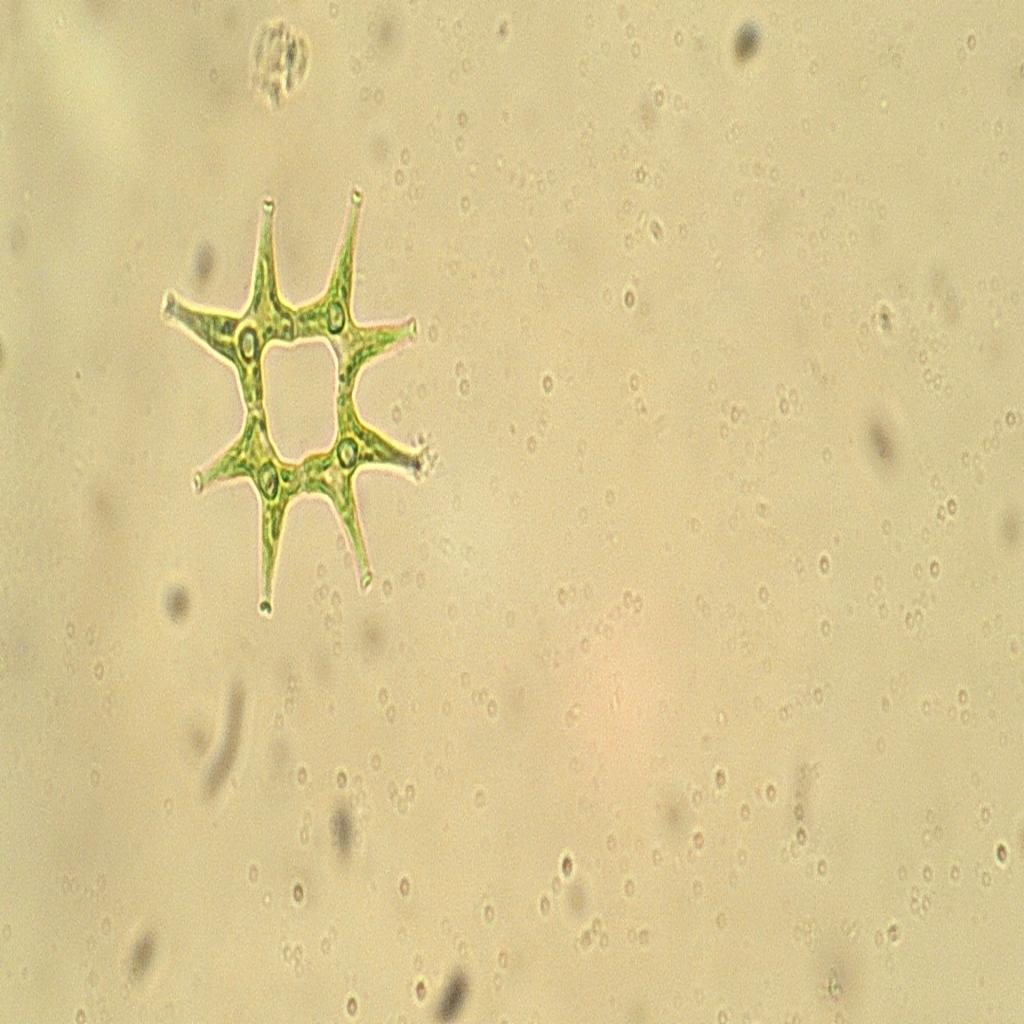Pediastrum_75O: (139, 170, 473, 630)
